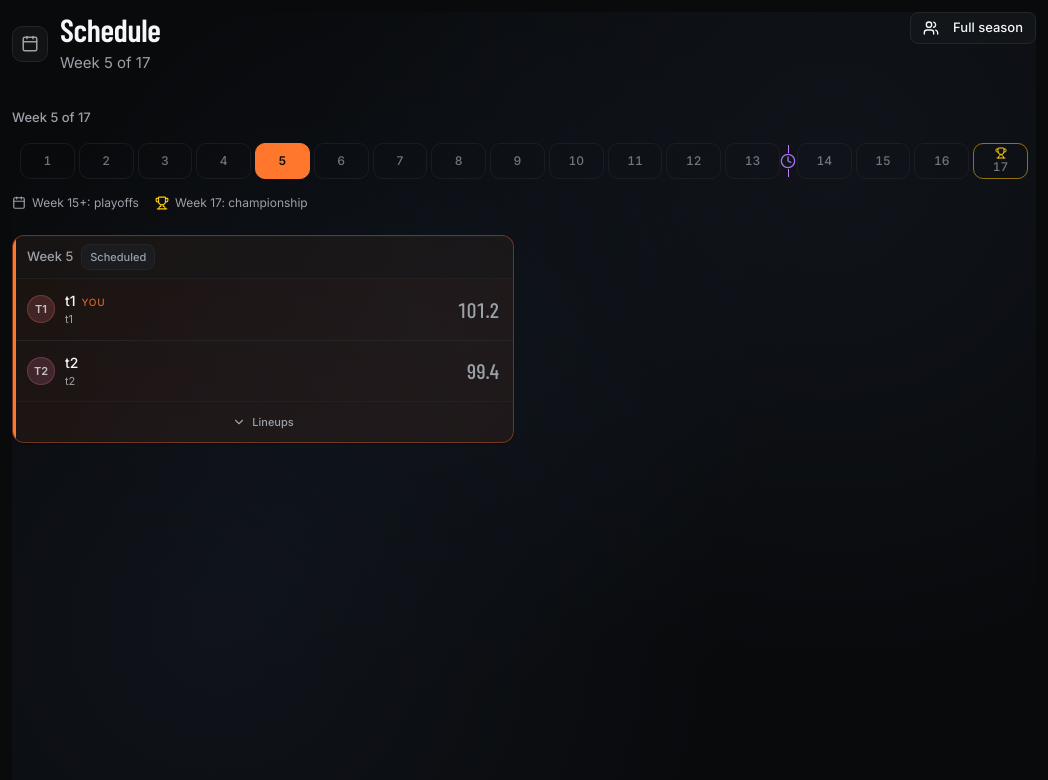
ScheduleManager lineups › labels a projection and leaves an actual bare
Click the button "Lineups" at (263, 422), box [13,402,513,442]
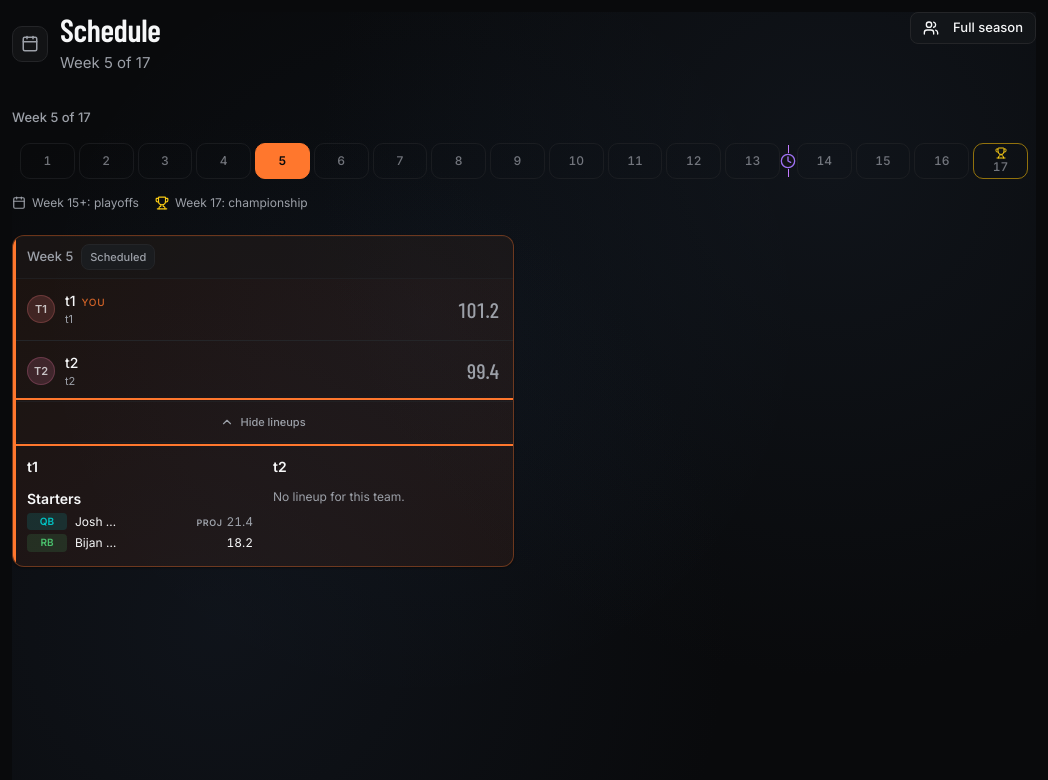
Check: the text "21.4" is shown, box [226,514,253,530]
Check: the text "proj" is shown, box [196,517,222,529]
Check: the text "18.2" is shown, box [226,535,253,550]
